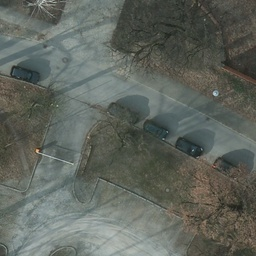car: (213, 158, 245, 183), (11, 64, 39, 85), (176, 138, 203, 158), (143, 122, 169, 141)
